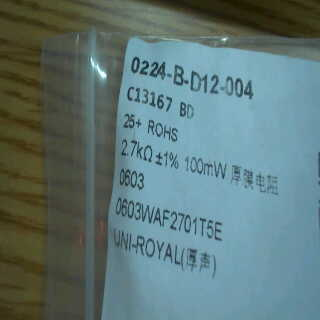2.7kR: (116, 135, 157, 163)
